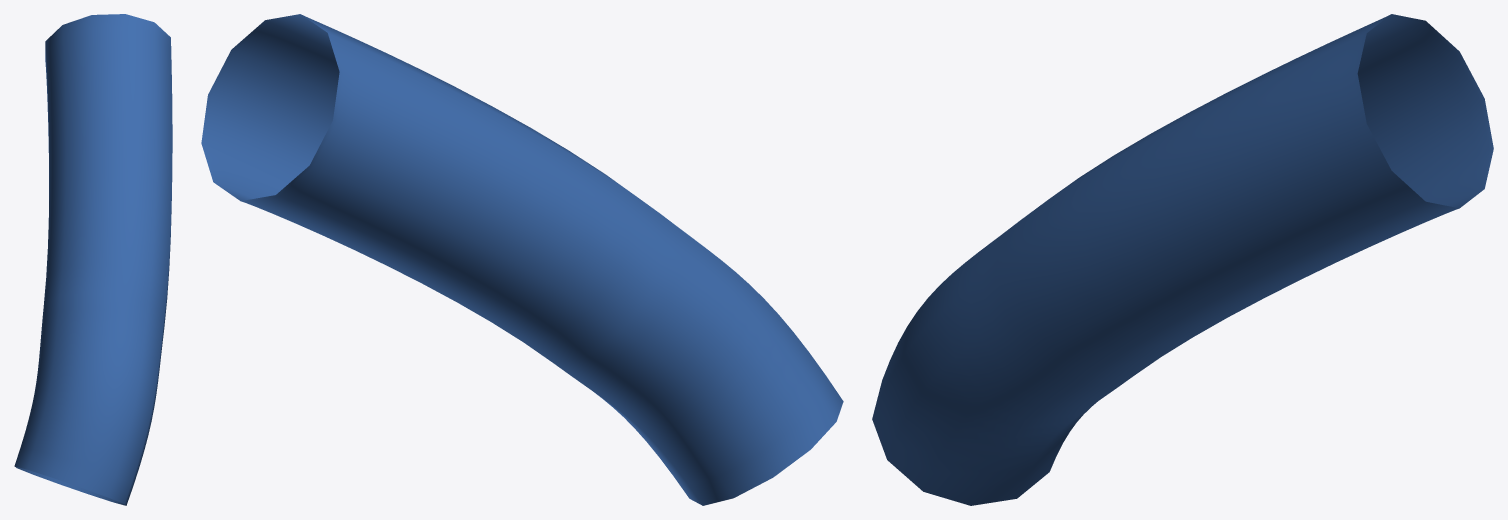
3 renders of one model, left to right at view 1: azimuth 30°, elevation 25°; view 2: azimuth 150°, elevation 25°; view 3: azimuth 270°, elevation 25°, orthographic. The views are drawn at different scales.
Parts seen in each view (by area): view 1: 右侧面总静脉; view 2: 右侧面总静脉; view 3: 右侧面总静脉.
Boxes of the visible parts, left/top/right/bottom form: 右侧面总静脉: left=14, top=14, right=172, bottom=505; 右侧面总静脉: left=201, top=14, right=843, bottom=505; 右侧面总静脉: left=872, top=14, right=1493, bottom=505.
Bounding box in the file's own units: 0.0102 × 0.0127 × 0.0124.
